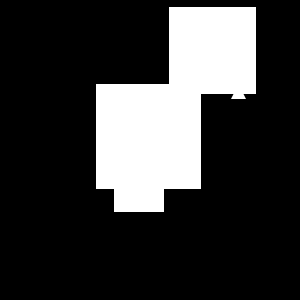circle: (96, 84, 201, 189), (169, 7, 256, 94), (114, 162, 164, 212)
rectangle: (124, 180, 152, 208)
triangle: (231, 84, 246, 99)
